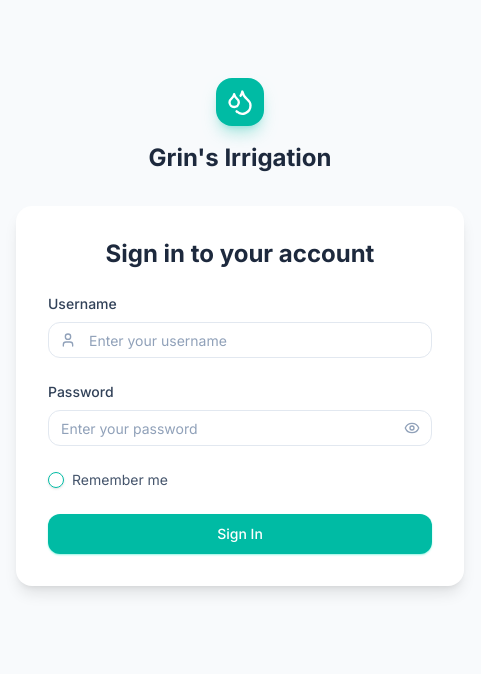
LoginPage › clears error when retrying login
This screenshot has width=481, height=674.
// First attempt - fails
Step 1. Type "wronguser" into the field with test id "username-input" → (240, 340), box [48, 322, 432, 358]
Step 2. Type "wrongpass" into the password field with test id "password-input" → (240, 428), box [48, 410, 432, 446]
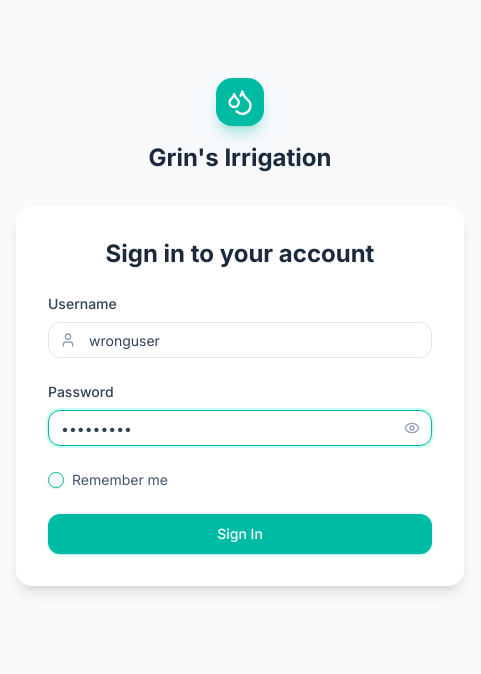
Step 3. Click the button with test id "login-btn" → (240, 534), box [48, 514, 432, 554]
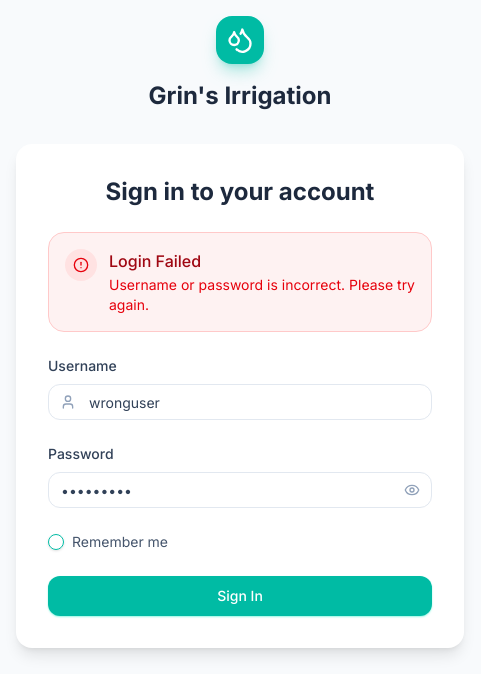
Expected: the element with test id "login-error" is shown, [48, 232, 432, 332]
// Clear and retry with correct credentials
Step 4. Clear the field with test id "username-input" → (240, 402), box [48, 384, 432, 420]
Step 5. Clear the password field with test id "password-input" → (240, 490), box [48, 472, 432, 508]
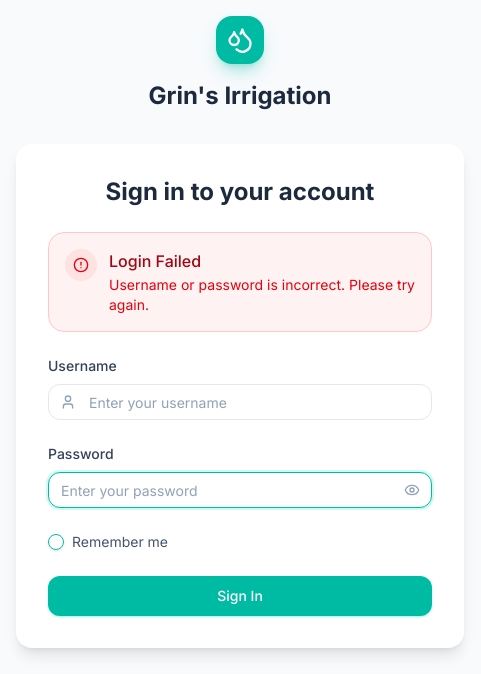
Step 6. Type "testuser" into the field with test id "username-input" → (240, 402), box [48, 384, 432, 420]
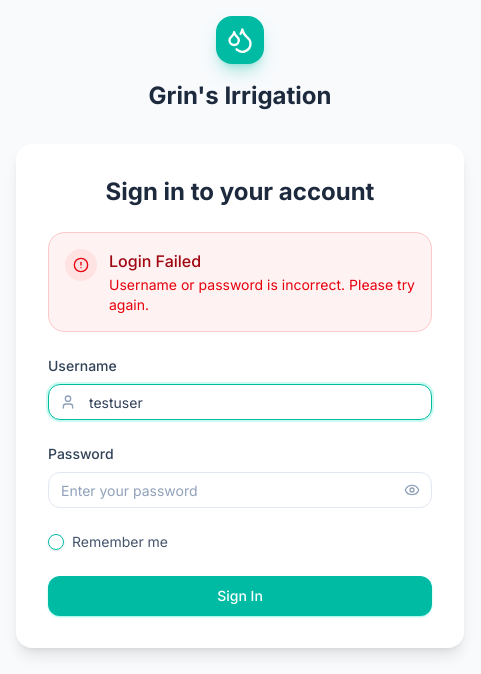
Step 7. Type "password123" into the password field with test id "password-input" → (240, 490), box [48, 472, 432, 508]
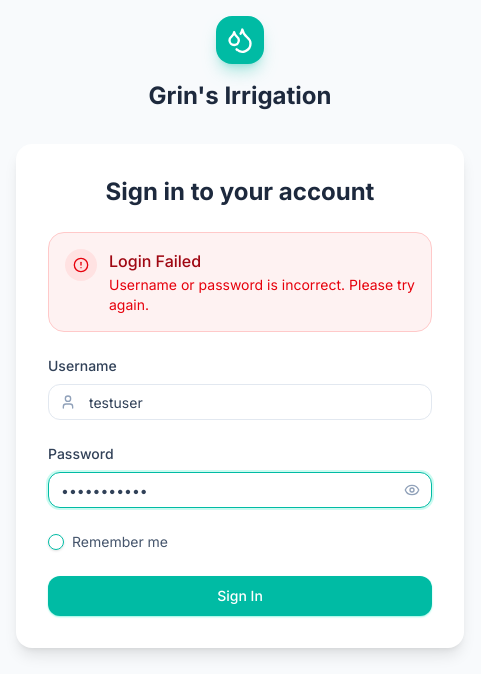
Step 8. Click the button with test id "login-btn" → (240, 596), box [48, 576, 432, 616]
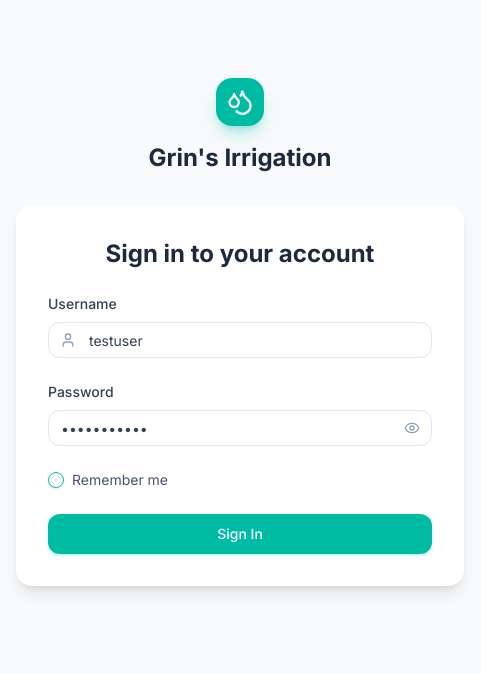
Expected: the element with test id "login-error" is gone
